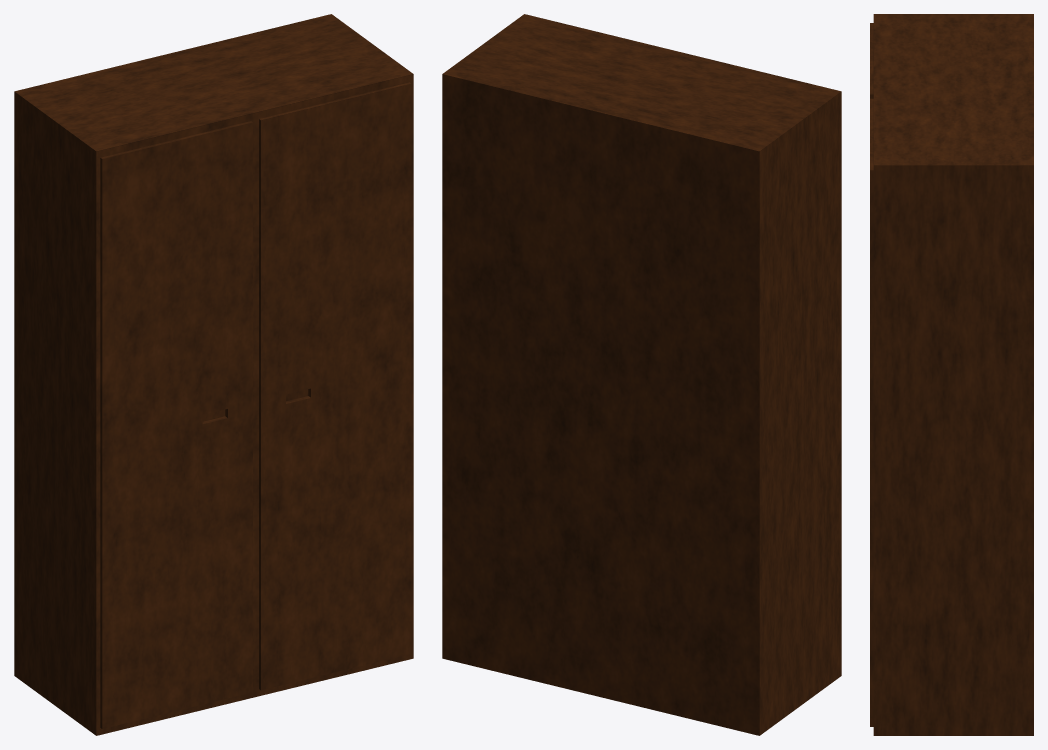
File: Cupboard 1.fbx
3 views of the same model, side by side, from view 1: azimuth 30°, elevation 25°; view 2: azimuth 150°, elevation 25°; view 3: azimuth 270°, elevation 25° (orthographic). The views are drawn at different scales.
Parts seen in each view (by area): view 1: Cube.001; view 2: Cube.001; view 3: Cube.001.
Boxes of the visible parts, bbox=[...] form: Cube.001: bbox=[14, 14, 413, 735]; Cube.001: bbox=[442, 14, 841, 735]; Cube.001: bbox=[870, 14, 1033, 735].
Size of the model in its own units: 200 by 91.68 by 352.
Materials: 1 (1 with a texture image).
